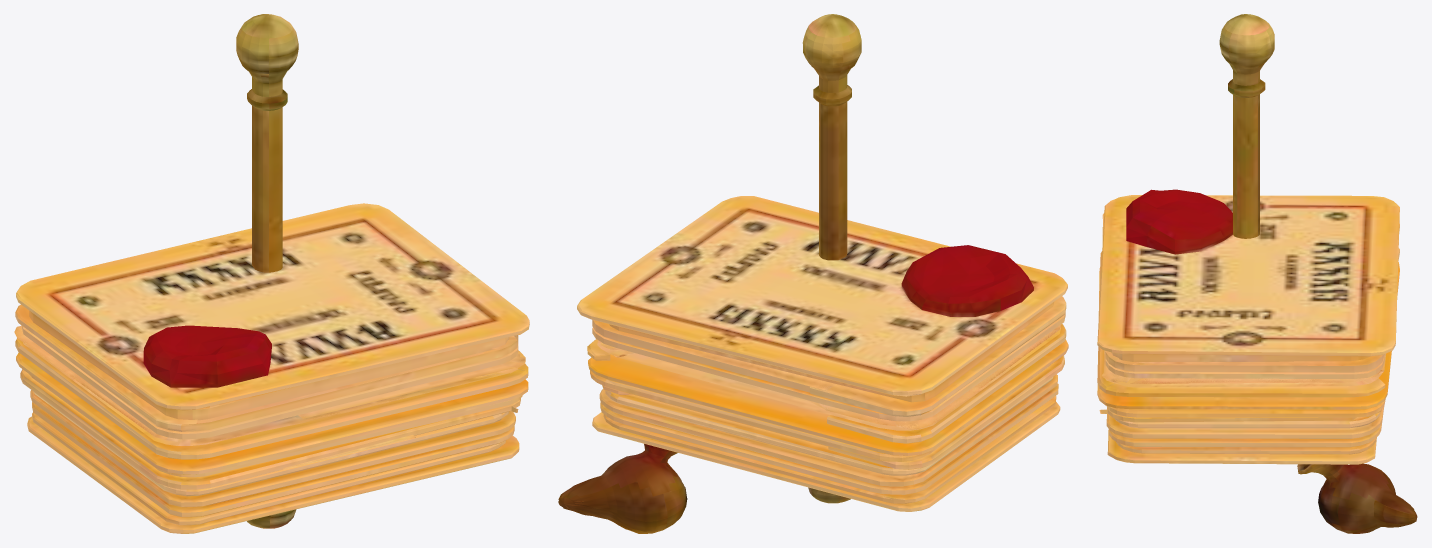
The model's file is prop_ticket.glb.
The picture shows the model from 3 angles, left to right: view 1: azimuth 30°, elevation 25°; view 2: azimuth 150°, elevation 25°; view 3: azimuth 270°, elevation 25°; orthographic projection. The views are drawn at different scales.
Parts seen in each view (by area): view 1: mesh_node; view 2: mesh_node; view 3: mesh_node.
Boxes of the visible parts, x1,y1,x2,y2 form: mesh_node: [14, 14, 529, 533]; mesh_node: [558, 14, 1068, 533]; mesh_node: [1097, 14, 1417, 533].
Bounding box in the file's own units: 1.41 × 1.91 × 1.21.
1 material, 1 textured.
